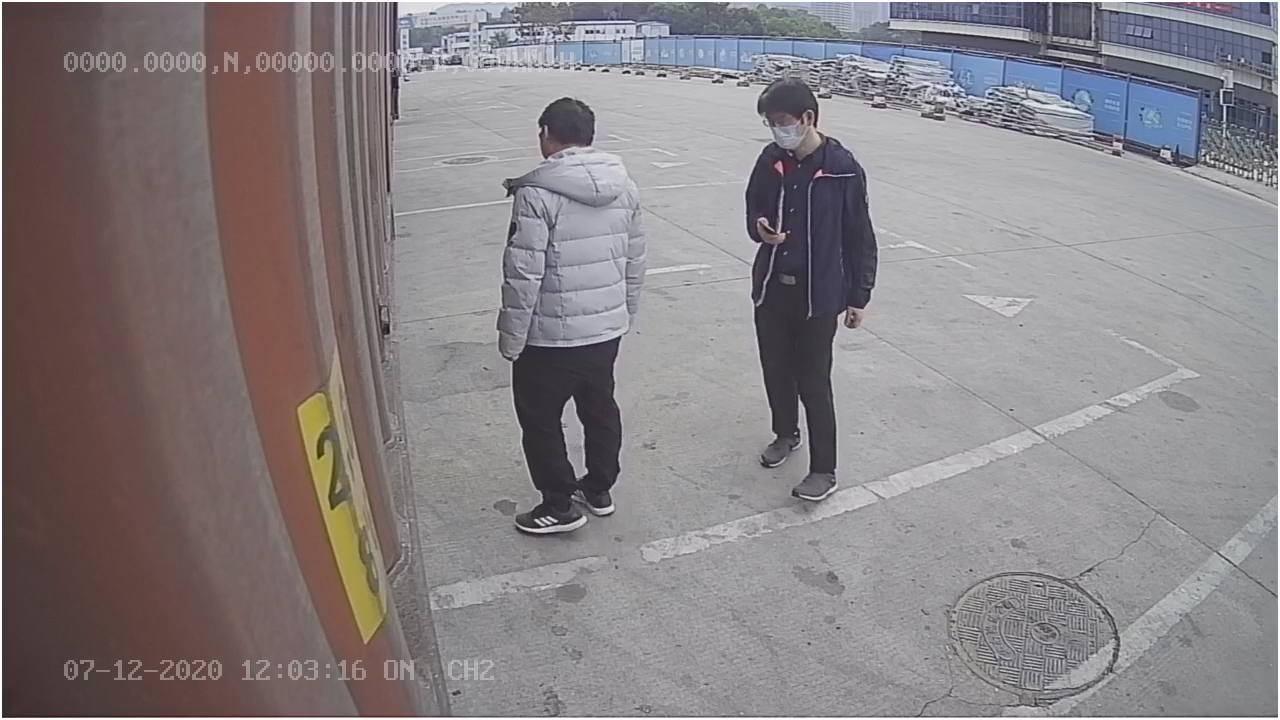person: (494, 92, 649, 537), (736, 74, 879, 498)
